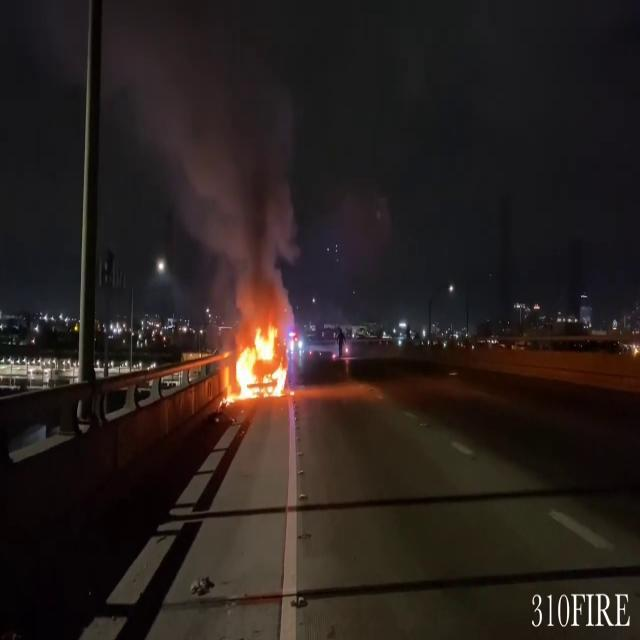Fire: (222, 318, 290, 404)
Smoke: (108, 1, 300, 311)
